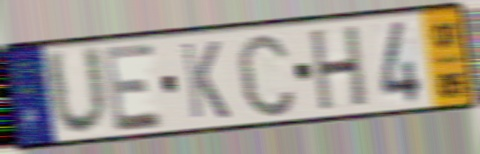4: (379, 17, 424, 108)
C: (233, 29, 300, 120)
E: (100, 39, 166, 135)
H: (309, 22, 370, 115)
K: (178, 39, 233, 122)
U: (42, 42, 113, 140)
